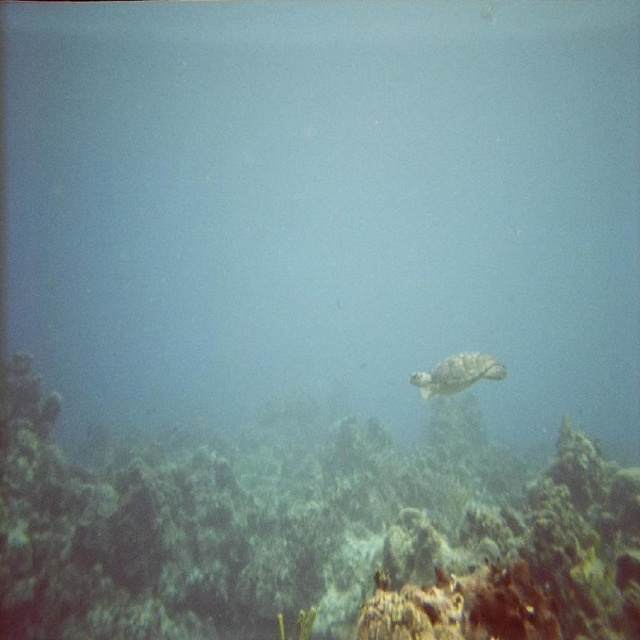Sea turtle: (405, 342, 510, 404)
